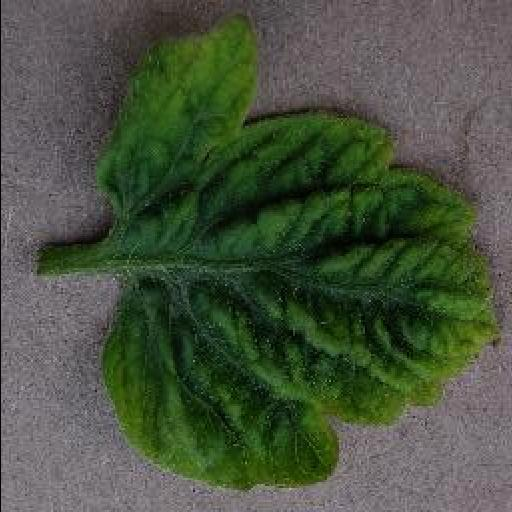disease_tomato: (94, 16, 506, 494)
